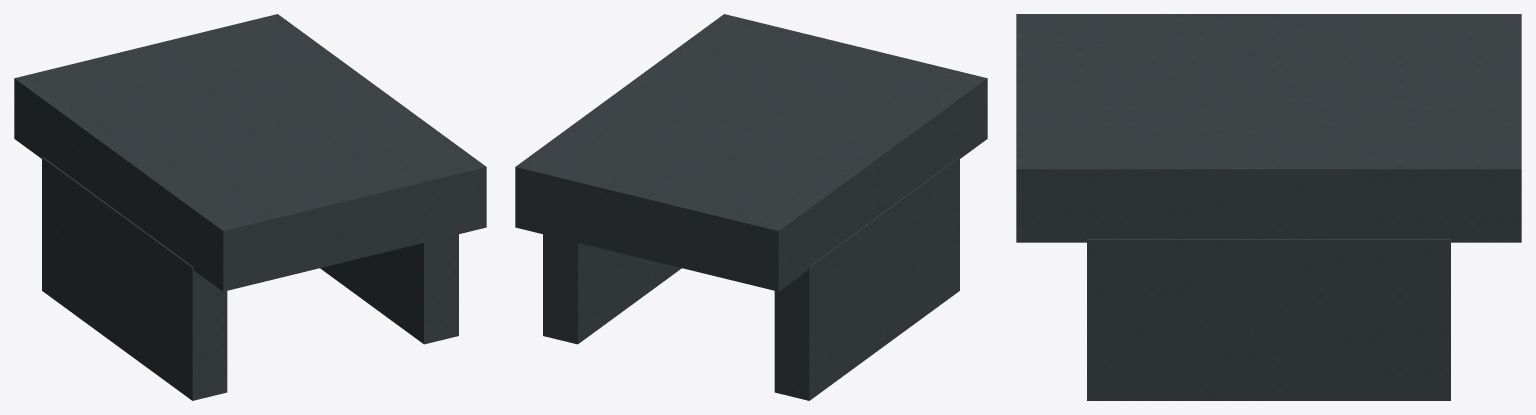
The model's file is aksu_mount.glb.
3 renders of one model, left to right at view 1: azimuth 30°, elevation 25°; view 2: azimuth 150°, elevation 25°; view 3: azimuth 270°, elevation 25°, orthographic. The views are drawn at different scales.
Visible parts, largest first — view 1: aksu_mount_top_deck, aksu_mount_top_deck.001; view 2: aksu_mount_top_deck, aksu_mount_top_deck.001; view 3: aksu_mount_top_deck, aksu_mount_top_deck.001.
Part boxes in pixels (x1=…): aksu_mount_top_deck: x1=16, y1=16, x2=483, y2=397; aksu_mount_top_deck.001: x1=14, y1=14, x2=486, y2=400; aksu_mount_top_deck: x1=518, y1=16, x2=957, y2=397; aksu_mount_top_deck.001: x1=515, y1=14, x2=987, y2=400; aksu_mount_top_deck: x1=1020, y1=15, x2=1517, y2=398; aksu_mount_top_deck.001: x1=1016, y1=14, x2=1521, y2=400.
Size of the model in its own units: 0.092 by 0.063 by 0.125.
1 material, 1 textured.
